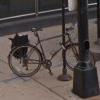Bicycle: (8, 21, 90, 86)
